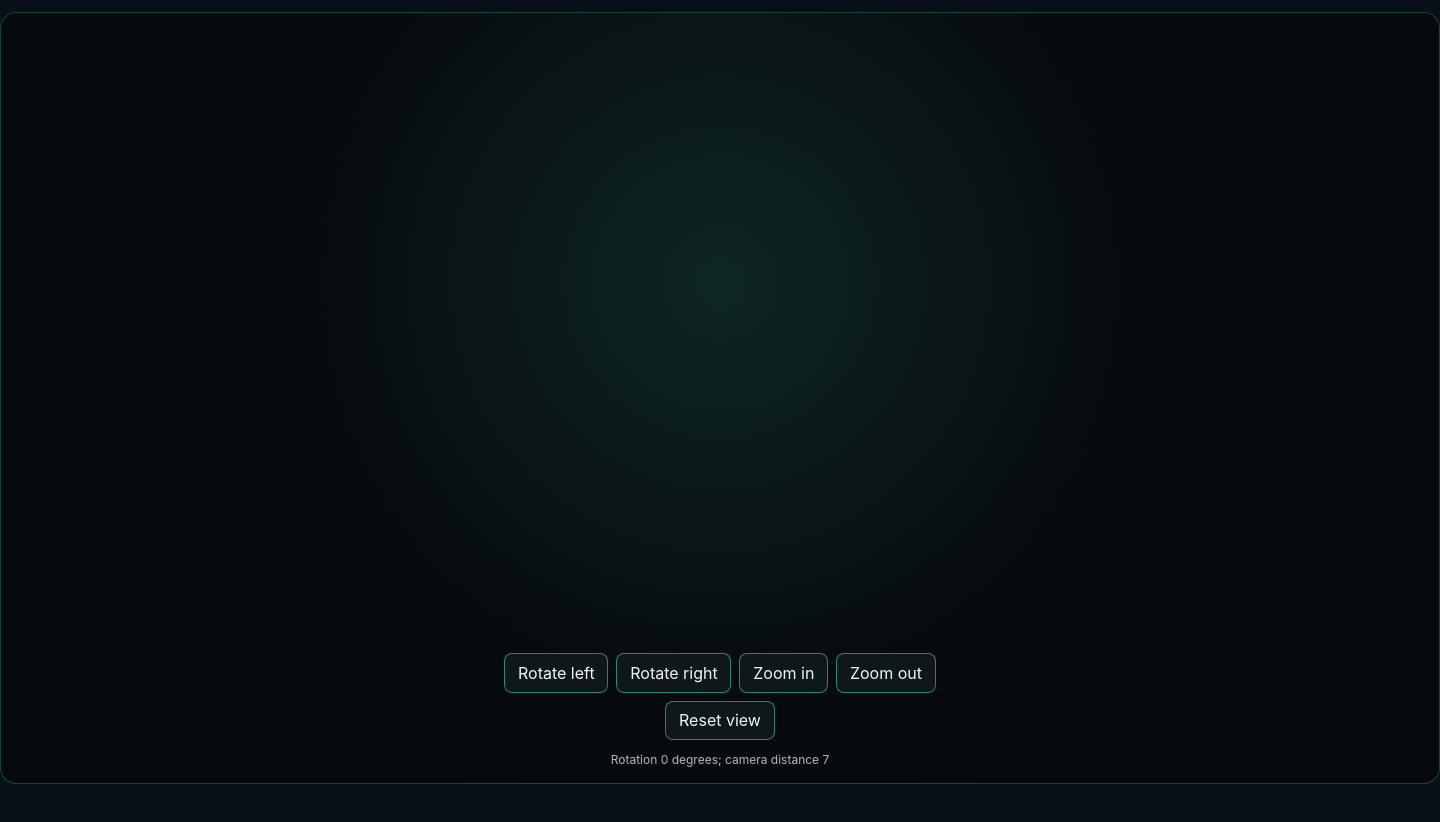
Test case: PerformanceBodyViewer › provides bounded rotation, zoom and reset controls
What coordinates should you click on to do the following:
click the button "Rotate right"
I would click on:
 (674, 673)
Its box is [616,653,732,693].
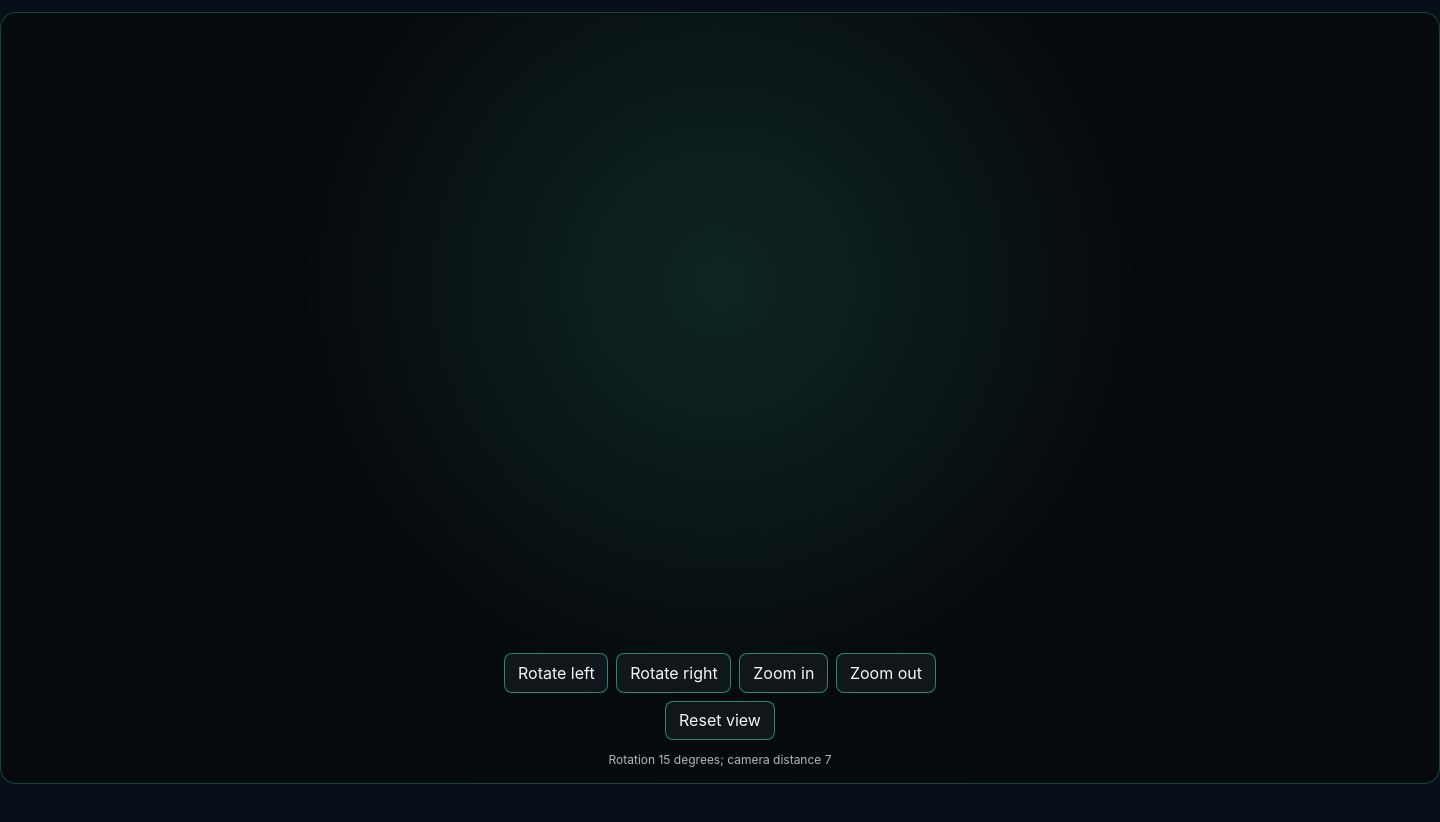
Expected: the text "Rotation 0 degrees; camera distance 7" reads "Rotation 15 degrees; camera distance 7", [608,752,832,767]
What coordinates should you click on to do the following:
click the button "Zoom in"
I would click on:
 (784, 673)
Its box is [740,653,828,693].
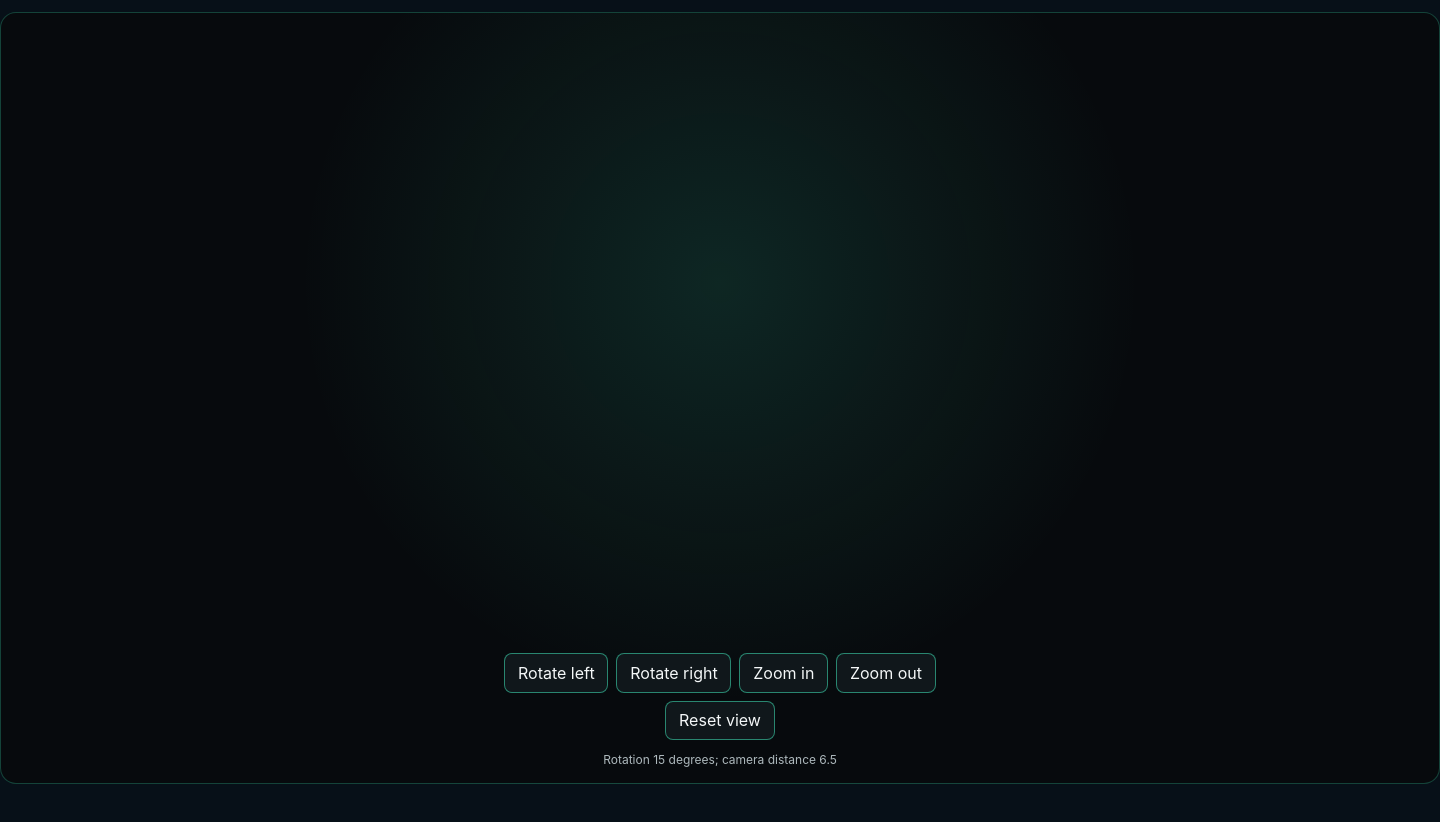
Expected: the text "Rotation 0 degrees; camera distance 7" reads "Rotation 15 degrees; camera distance 6.5", [603,752,837,767]
What coordinates should you click on to do the following:
click the button "Reset view"
I would click on:
 (720, 720)
Its box is [665,701,775,740].
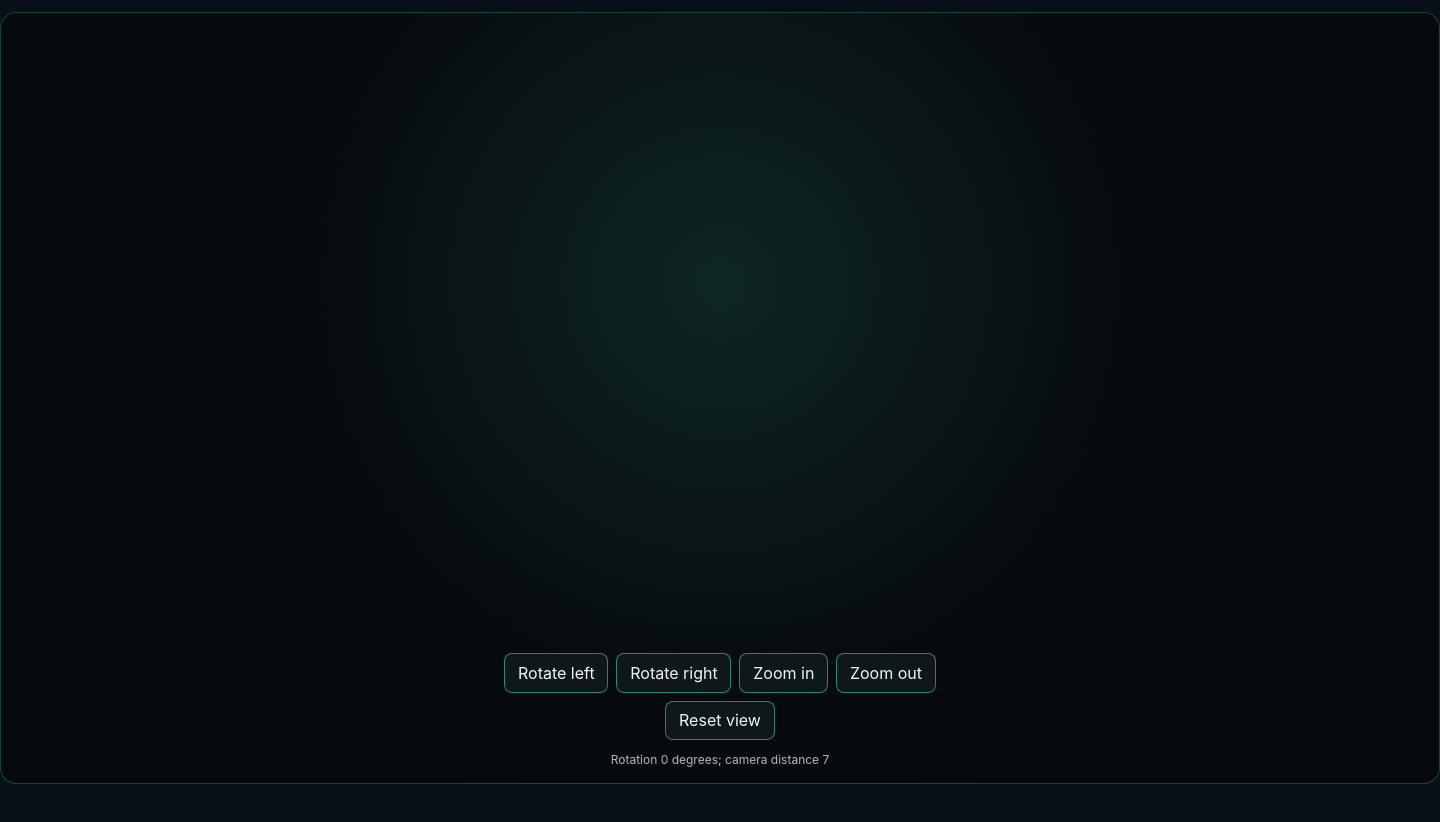
Expected: the text "Rotation 0 degrees; camera distance 7" is shown, [611,752,829,767]
